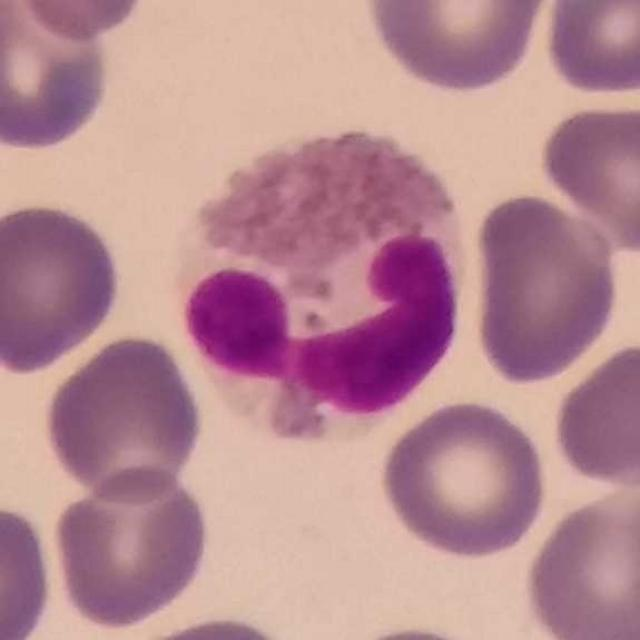eosino: (176, 123, 482, 447)
